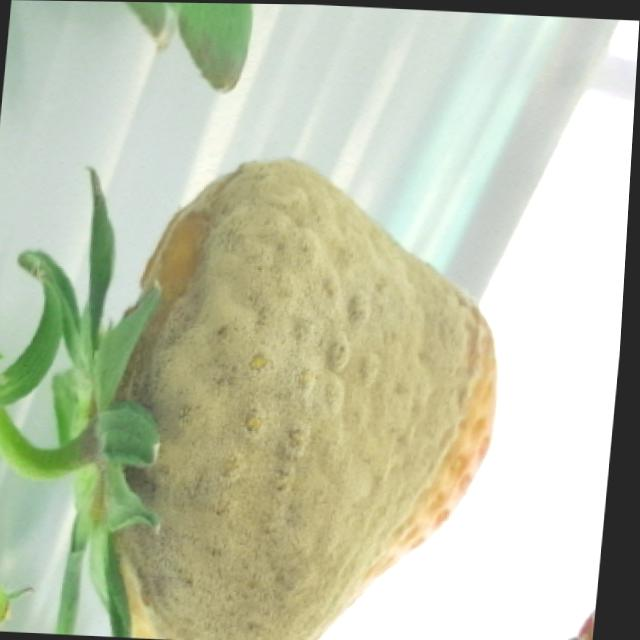Gray Mold: (117, 156, 504, 640)
